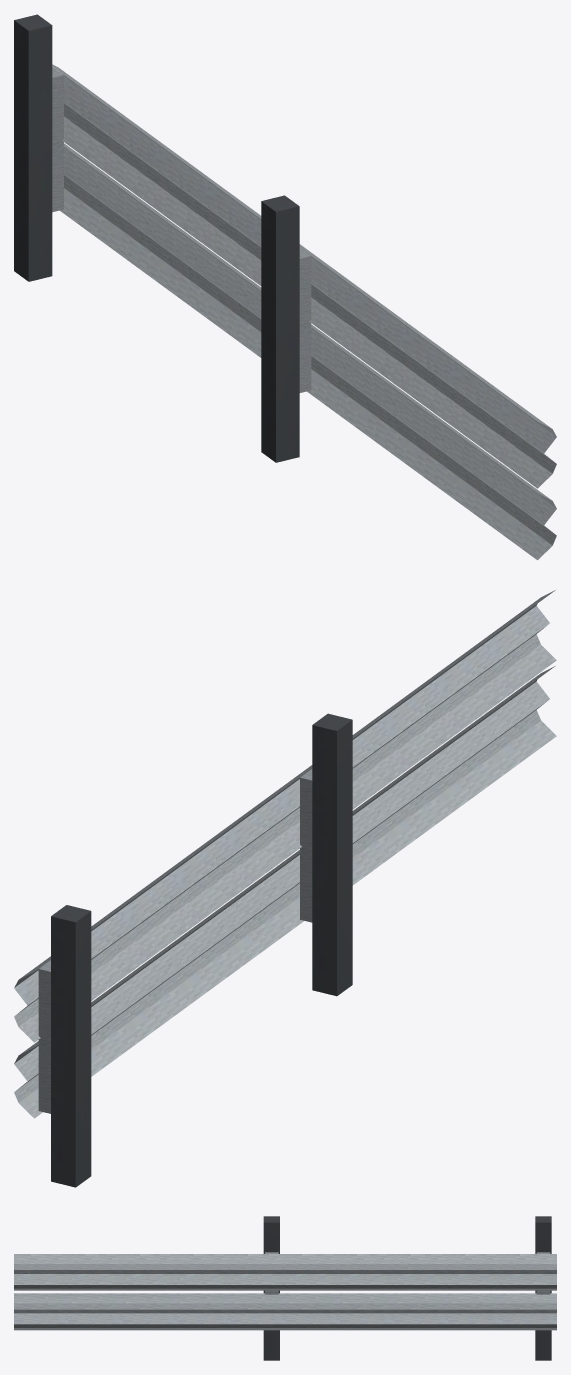
Rendered from armco-two_far.glb.
The picture shows the model from 3 angles, top to bottom: view 1: azimuth 30°, elevation 25°; view 2: azimuth 150°, elevation 25°; view 3: azimuth 270°, elevation 25°; orthographic projection. The views are drawn at different scales.
Parts seen in each view (by area): view 1: galvanised-rail, dark-steel, galvanised; view 2: galvanised-rail, dark-steel, galvanised; view 3: galvanised-rail, dark-steel, galvanised.
Boxes of the visible parts, bbox=[...] form: galvanised-rail: bbox=[52, 64, 556, 560]; dark-steel: bbox=[14, 14, 299, 462]; galvanised: bbox=[52, 67, 311, 392]; galvanised-rail: bbox=[14, 590, 556, 1118]; dark-steel: bbox=[51, 713, 352, 1187]; galvanised: bbox=[38, 769, 312, 1113]; galvanised-rail: bbox=[14, 1254, 556, 1330]; dark-steel: bbox=[263, 1216, 551, 1360]; galvanised: bbox=[265, 1252, 550, 1294].
Bounding box in the file's own units: 0.2501 × 1.12 × 4.
3 materials, 3 textured.
